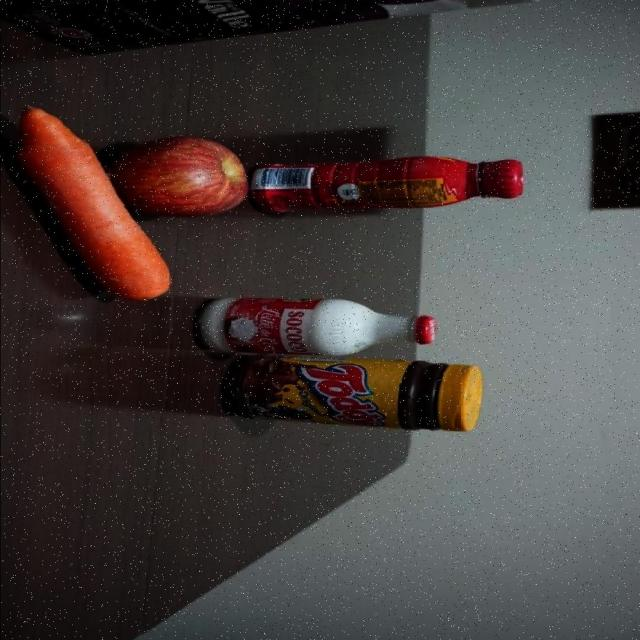Apple: (134, 136, 252, 211)
Carrot: (17, 101, 128, 302)
ChocolateMilk: (254, 155, 526, 216)
ChocolatePowder: (223, 361, 482, 432)
CoconutMilk: (198, 298, 440, 359)
